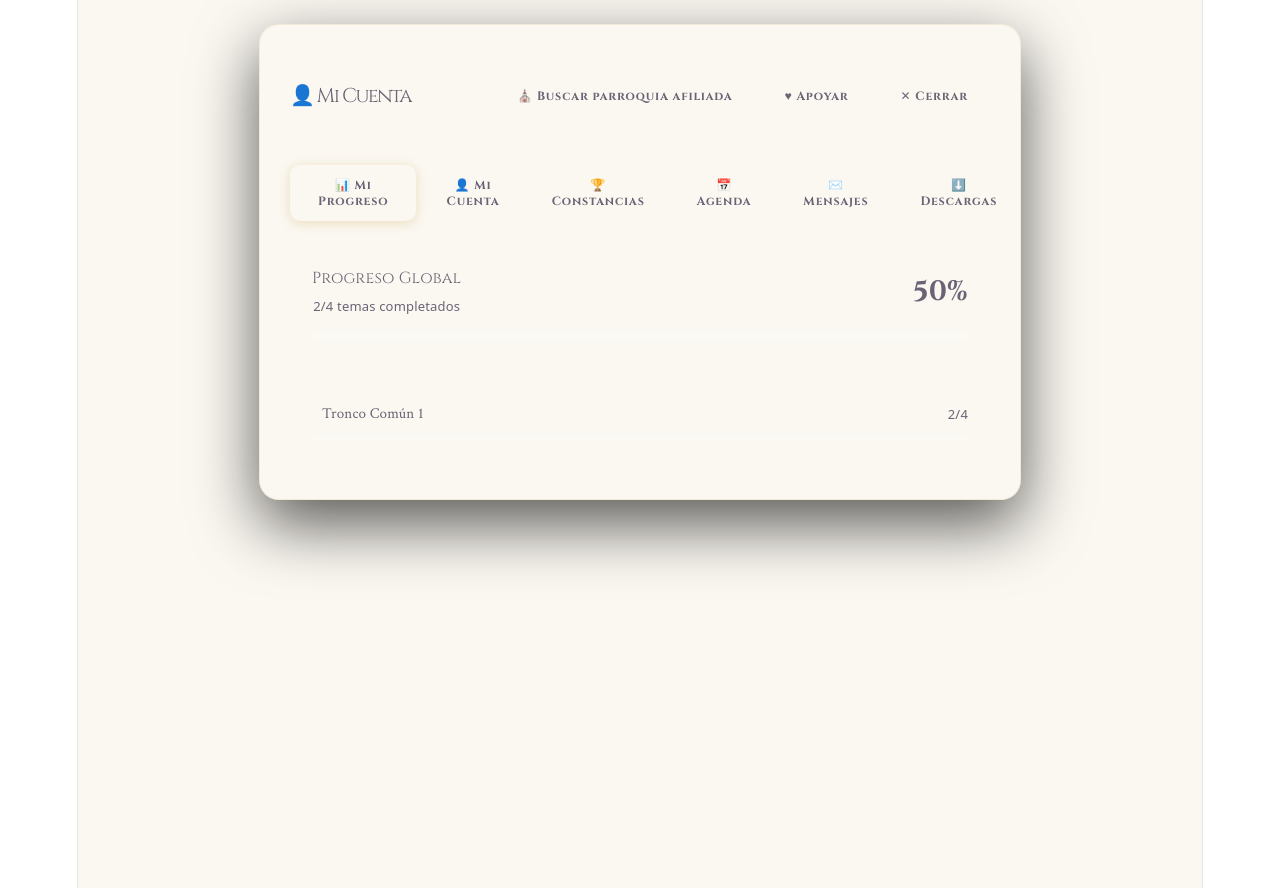
Test: Dashboard › abre la pestaña Mi Cuenta y muestra los datos del usuario
Click the button "👤 Mi Cuenta" at point(473, 193), box 424,165 -> 522,221
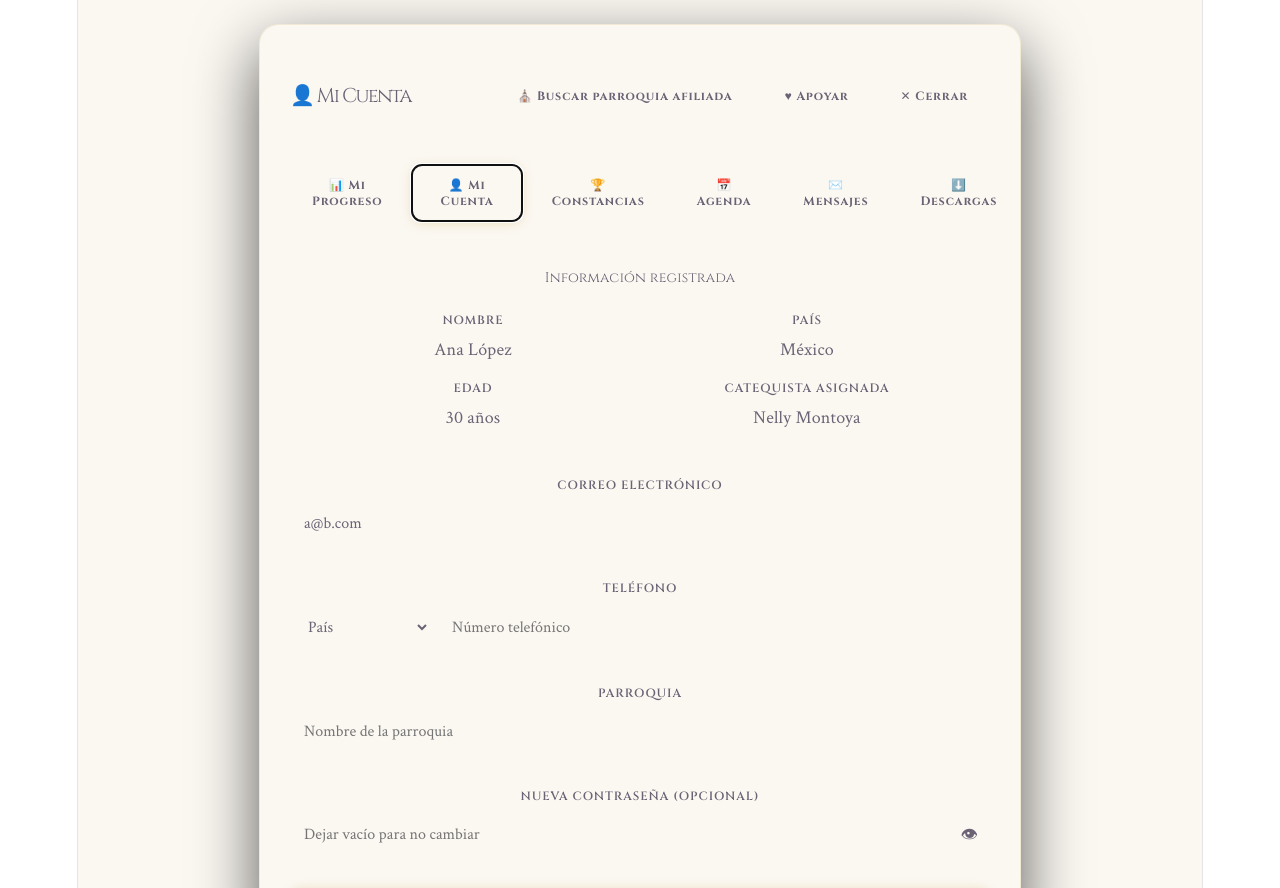
Expected: the text "Ana López" is shown, 434,338 -> 512,361
Expected: the text "México" is shown, 780,338 -> 834,361
